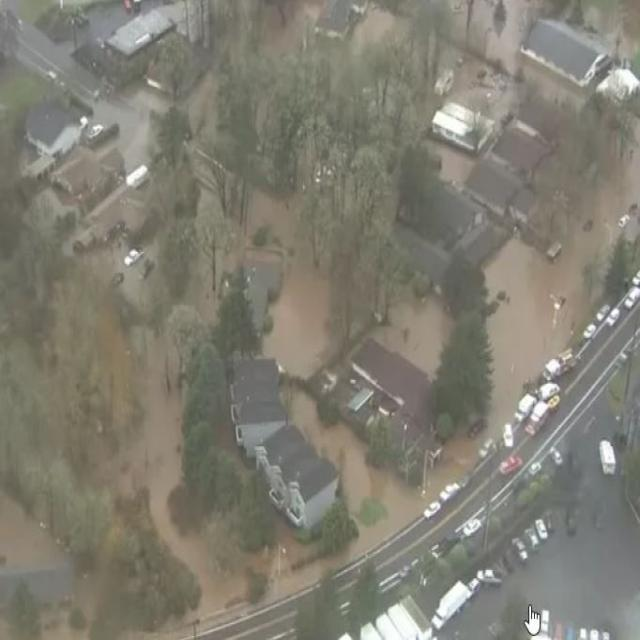flooded_areas: (6, 78, 628, 603)
